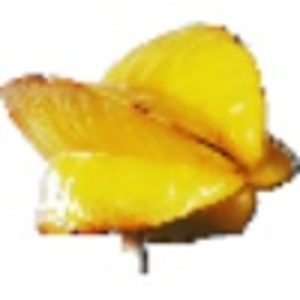carambola: (1, 21, 300, 275)
